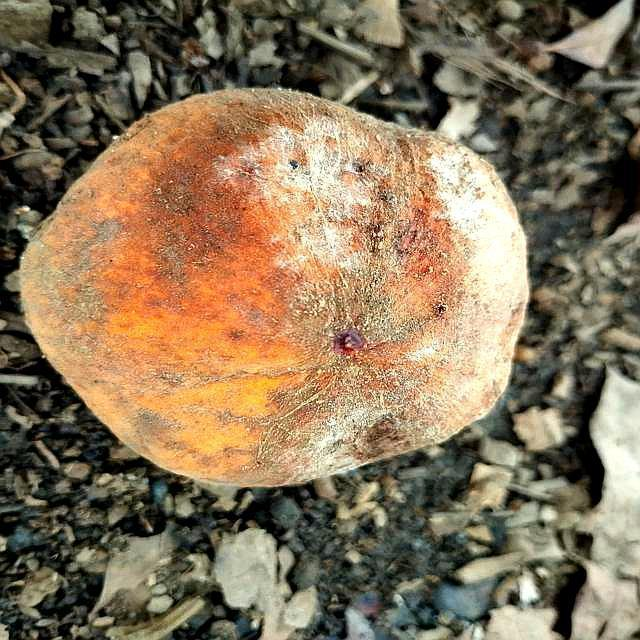Biodegradable: (13, 87, 531, 495)
